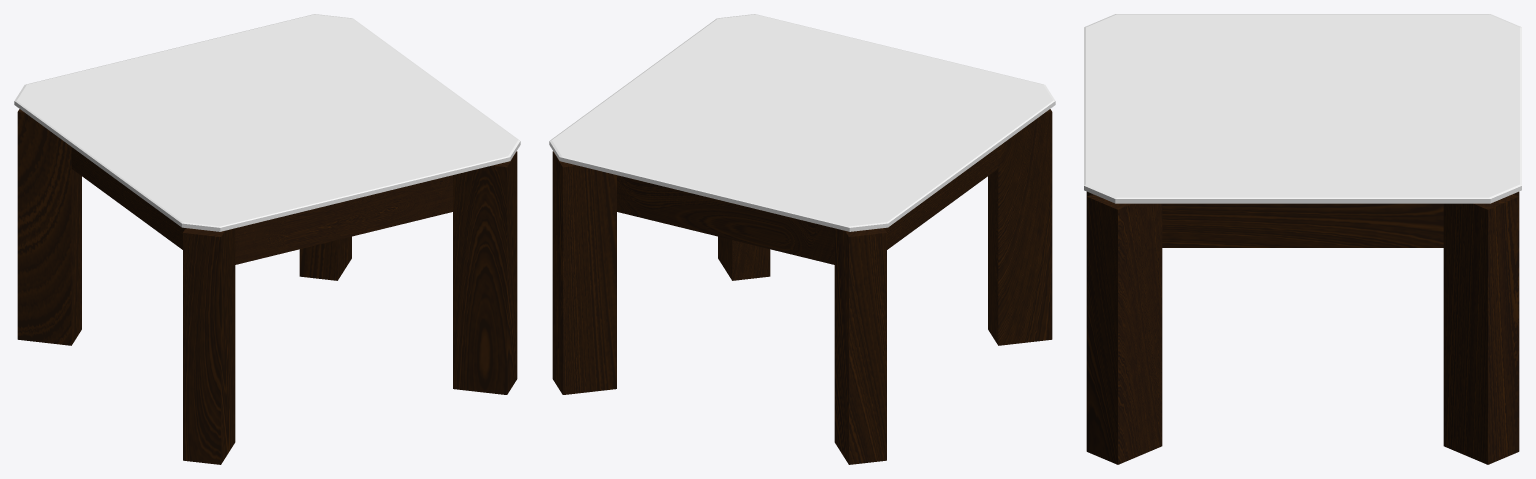
Rendered from coffy_table_wood_glass_1.5_FBX.fbx.
The picture shows the model from 3 angles, left to right: view 1: azimuth 30°, elevation 25°; view 2: azimuth 150°, elevation 25°; view 3: azimuth 270°, elevation 25°; orthographic projection. The views are drawn at different scales.
Visible parts, largest first — view 1: glass.001, wood_leg_04, wood_leg_02, wood_leg_01, wood_plank_01, wood_plank_02, wood_leg_03; view 2: glass.001, wood_leg_03, wood_leg_01, wood_leg_02, wood_plank_03, wood_plank_02, wood_leg_04; view 3: glass.001, wood_leg_03, wood_leg_04, wood_plank_04.
Boxes of the visible parts, x1=… form: glass.001: x1=14, y1=14, x2=520, y2=231; wood_leg_04: x1=453, y1=151, x2=517, y2=394; wood_leg_02: x1=17, y1=109, x2=81, y2=345; wood_leg_01: x1=183, y1=228, x2=235, y2=464; wood_plank_01: x1=235, y1=175, x2=452, y2=264; wood_plank_02: x1=71, y1=147, x2=185, y2=249; wood_leg_03: x1=299, y1=236, x2=351, y2=280; glass.001: x1=549, y1=14, x2=1055, y2=231; wood_leg_03: x1=552, y1=151, x2=616, y2=394; wood_leg_01: x1=988, y1=109, x2=1052, y2=345; wood_leg_02: x1=834, y1=228, x2=886, y2=464; wood_plank_03: x1=617, y1=175, x2=834, y2=264; wood_plank_02: x1=884, y1=147, x2=998, y2=249; wood_leg_04: x1=718, y1=236, x2=770, y2=280; glass.001: x1=1084, y1=14, x2=1521, y2=203; wood_leg_03: x1=1443, y1=194, x2=1519, y2=464; wood_leg_04: x1=1086, y1=194, x2=1162, y2=464; wood_plank_04: x1=1162, y1=203, x2=1443, y2=247.
Bounding box in the file's own units: 70 × 47.2 × 70.
